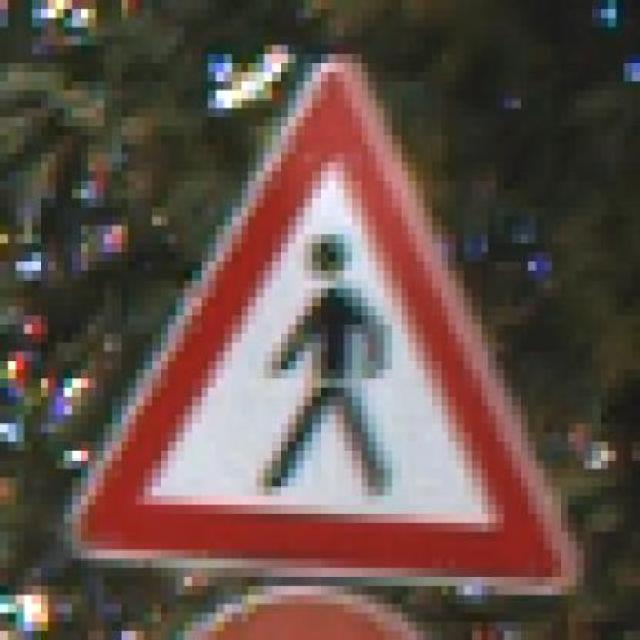Pedestrian Crossing: (48, 36, 600, 604)
